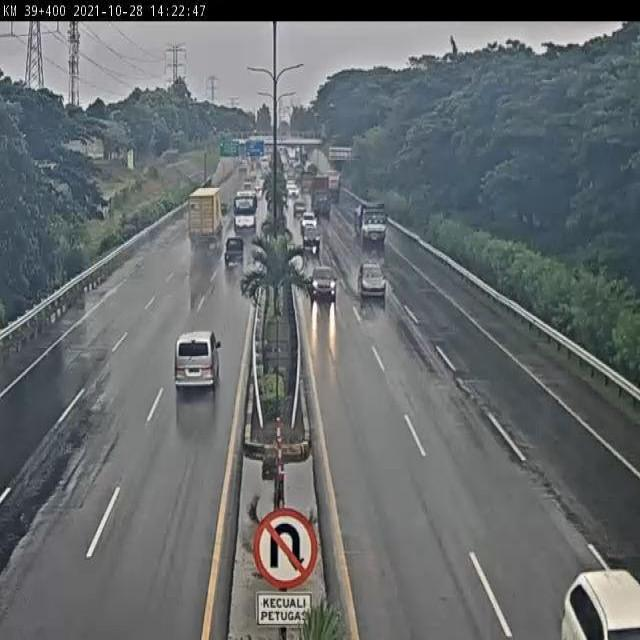big bus: (227, 196, 259, 244)
big truck: (174, 189, 222, 259), (355, 200, 390, 243), (307, 173, 328, 212)
car: (552, 562, 640, 640), (170, 327, 222, 393), (221, 236, 251, 281), (355, 258, 387, 298), (311, 266, 338, 298), (301, 225, 321, 248), (292, 198, 307, 218), (302, 210, 317, 230), (249, 183, 265, 201)
